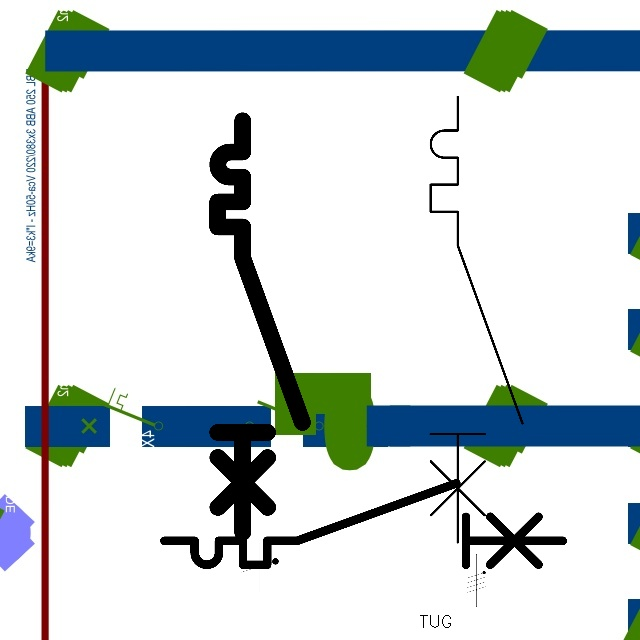interruptor_termomagnetico: (419, 85, 533, 553), (207, 110, 313, 543), (154, 473, 573, 575)
